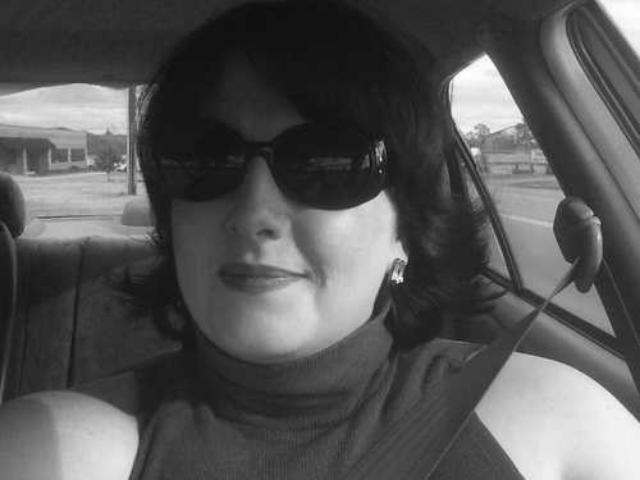Seatbelt: (336, 196, 600, 480)
